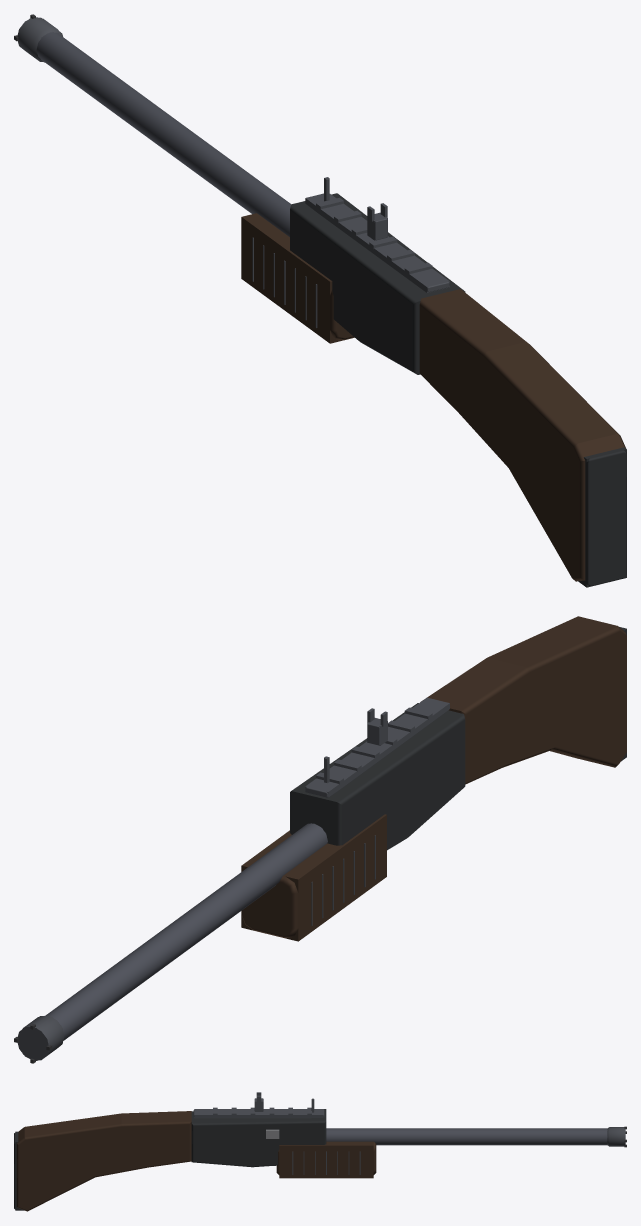
Rendered from scatter.glb.
3 views of the same model, one above another, from view 1: azimuth 30°, elevation 25°; view 2: azimuth 150°, elevation 25°; view 3: azimuth 270°, elevation 25° (orthographic). The views are drawn at different scales.
Visible parts, largest first — view 1: L0, L1; view 2: L0, L1; view 3: L0, L1.
Boxes of the visible parts, x1=… form: L0: x1=14, y1=14, x2=626, y2=586; L1: x1=18, y1=18, x2=626, y2=587; L0: x1=14, y1=616, x2=626, y2=1063; L1: x1=18, y1=628, x2=626, y2=1060; L0: x1=14, y1=1092, x2=626, y2=1211; L1: x1=15, y1=1098, x2=625, y2=1210.
Size of the model in its own units: 0.0544 by 0.1835 by 0.9098.
